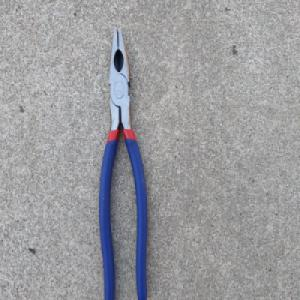Pliers: (99, 24, 151, 300)
